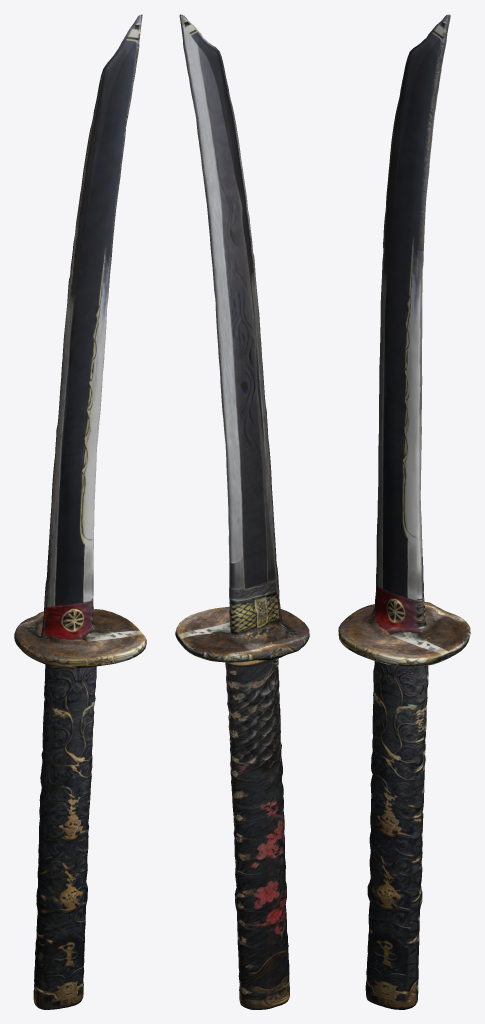
The model's file is katana__0522121757_texture.fbx.
3 views of the same model, side by side, from view 1: azimuth 30°, elevation 25°; view 2: azimuth 210°, elevation 25°; view 3: azimuth 330°, elevation 25° (orthographic). The views are drawn at different scales.
Visible parts, largest first — view 1: Mesh1; view 2: Mesh1; view 3: Mesh1.
Part boxes in pixels (<box>): Mesh1: <box>14,14,146,1009</box>; Mesh1: <box>175,14,309,1009</box>; Mesh1: <box>338,14,470,1009</box>.
Size of the model in its own units: 22.97 by 199 by 22.5.
Materials: 1 (1 with a texture image).
